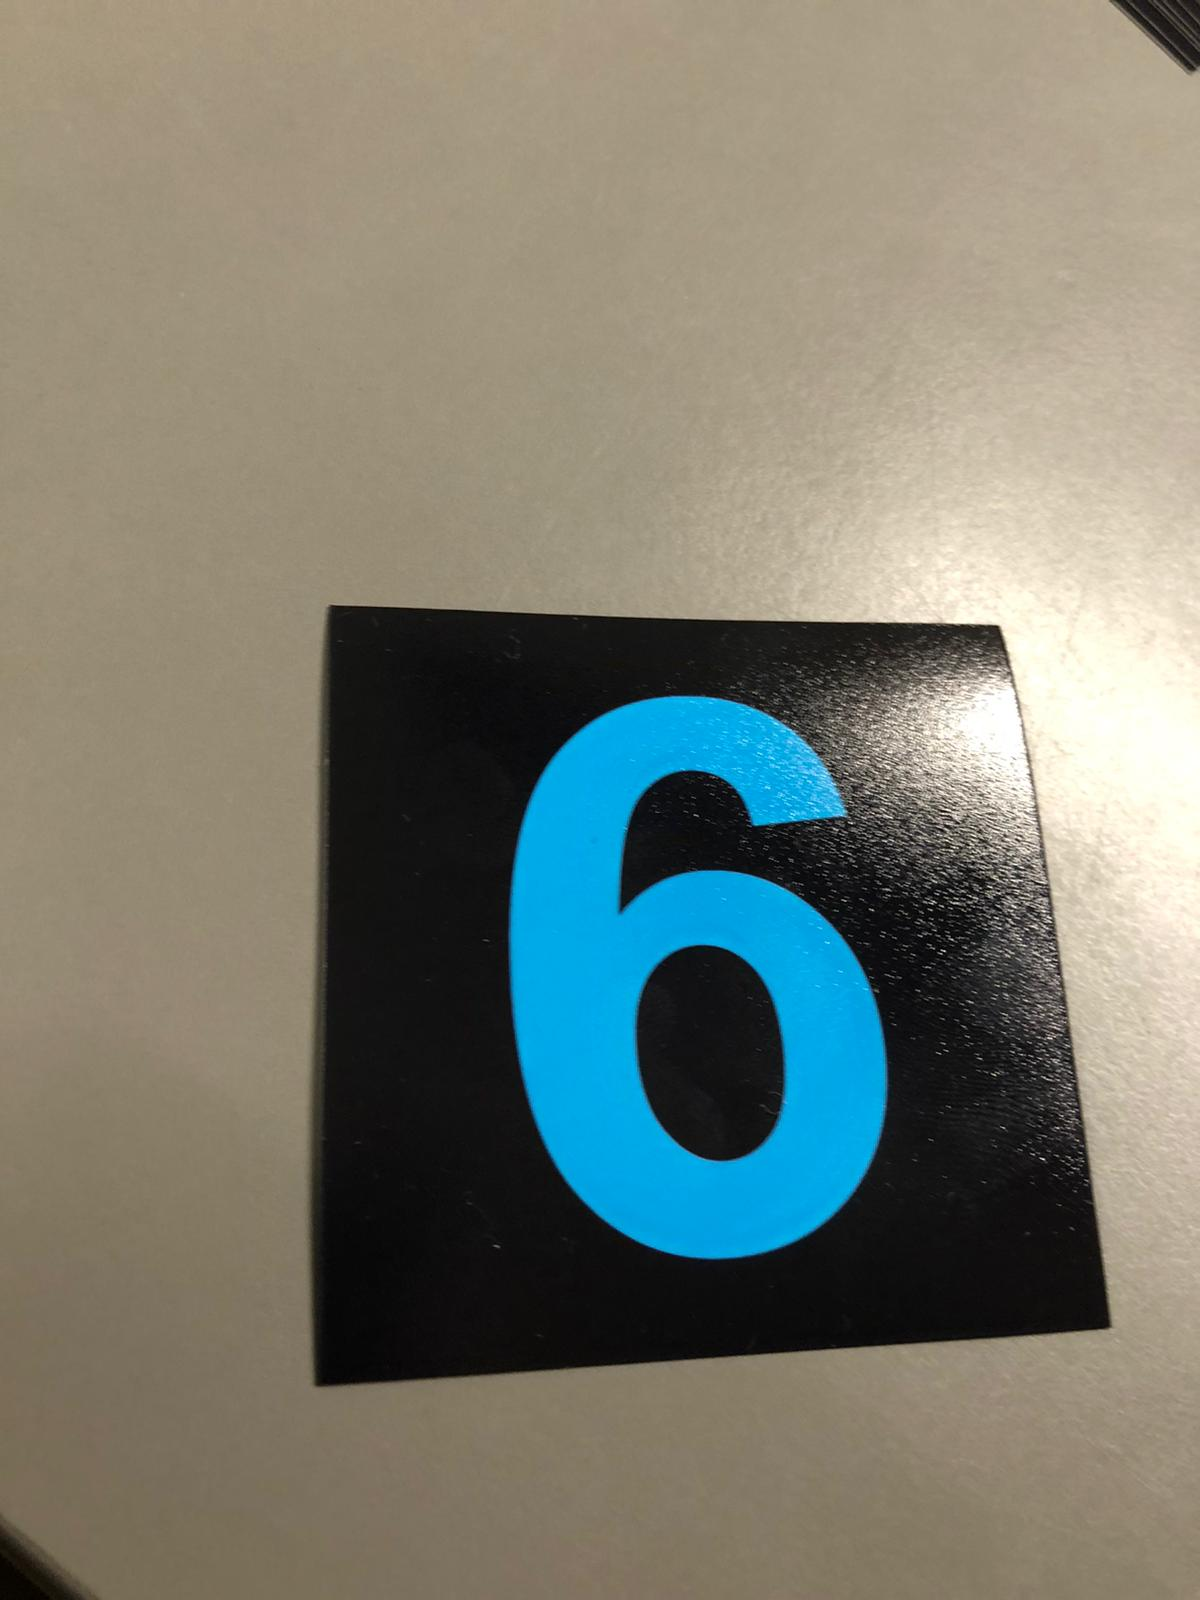Number 6: (334, 636, 1076, 1332)
